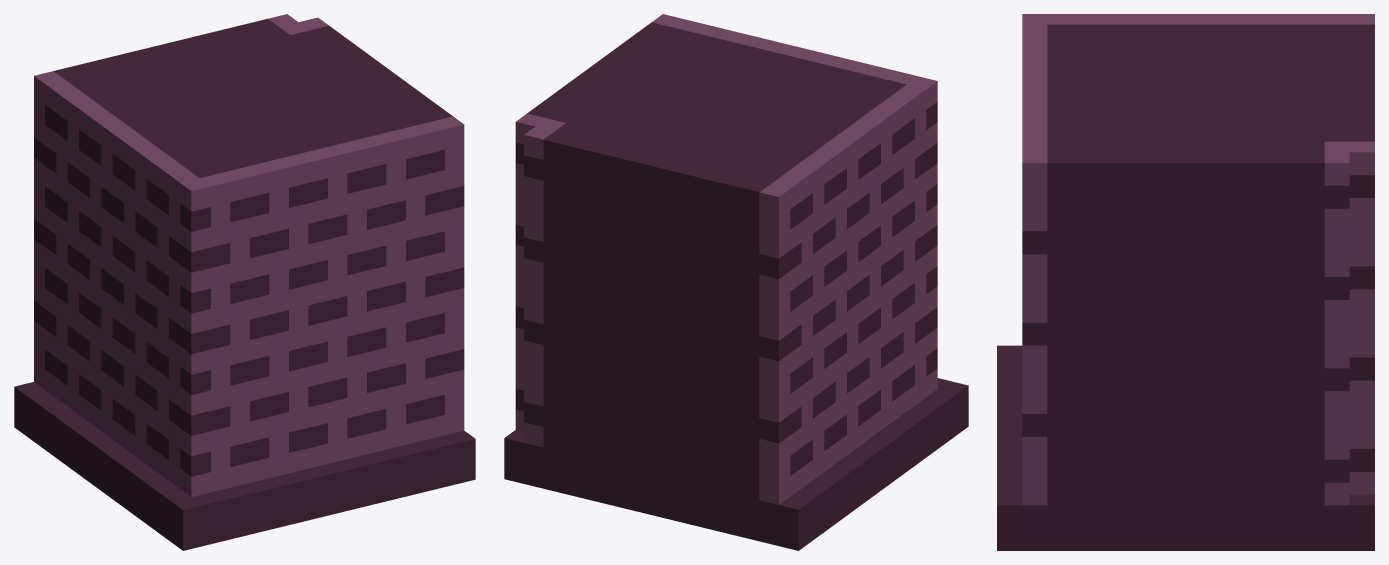
The model's file is dungeon_c_b_inner_wall_corner_a.obj.
3 views of the same model, side by side, from view 1: azimuth 30°, elevation 25°; view 2: azimuth 150°, elevation 25°; view 3: azimuth 270°, elevation 25° (orthographic). The views are drawn at different scales.
Bounding box in the file's own units: 1.5 × 1.7 × 1.5.
Materials: 1 (1 with a texture image).
